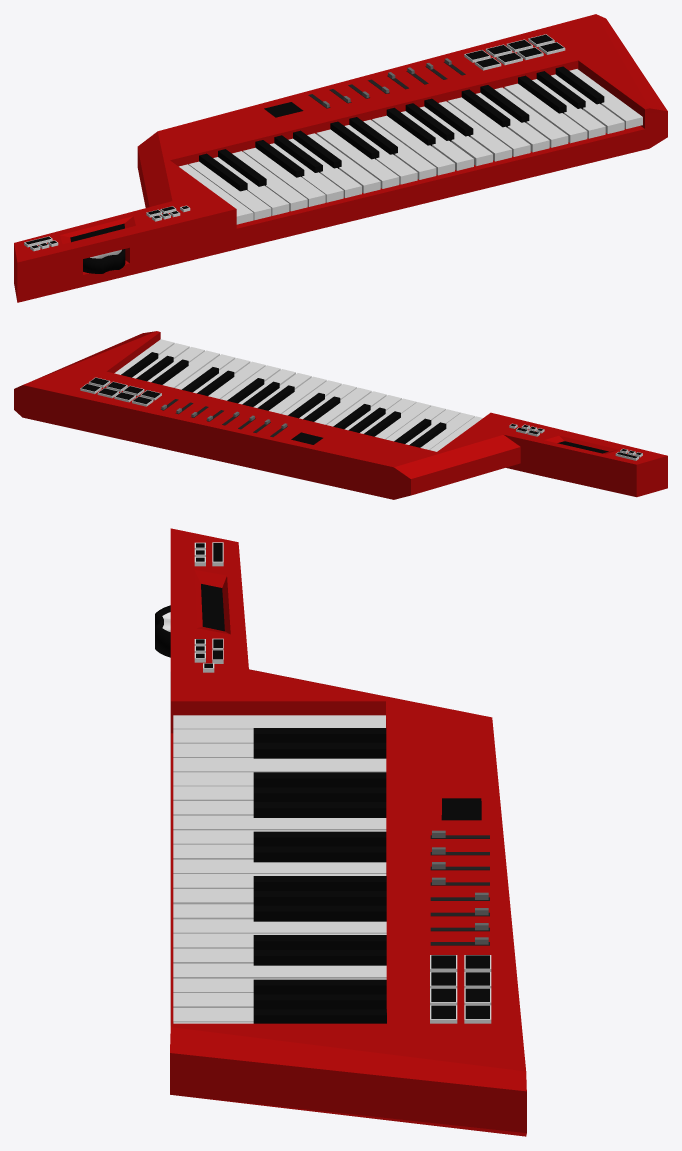
File: Keytar.fbx
3 views of the same model, one above another, from view 1: azimuth 30°, elevation 25°; view 2: azimuth 150°, elevation 25°; view 3: azimuth 270°, elevation 25° (orthographic). The views are drawn at different scales.
Parts seen in each view (by area): view 1: Cube.234; view 2: Cube.234; view 3: Cube.234.
Part boxes in pixels (x1,y1,x2,y2): Cube.234: (14,14,667,302); Cube.234: (14,331,667,499); Cube.234: (155,528,526,1136).
Size of the model in its own units: 90.75 by 5.42 by 25.86.
